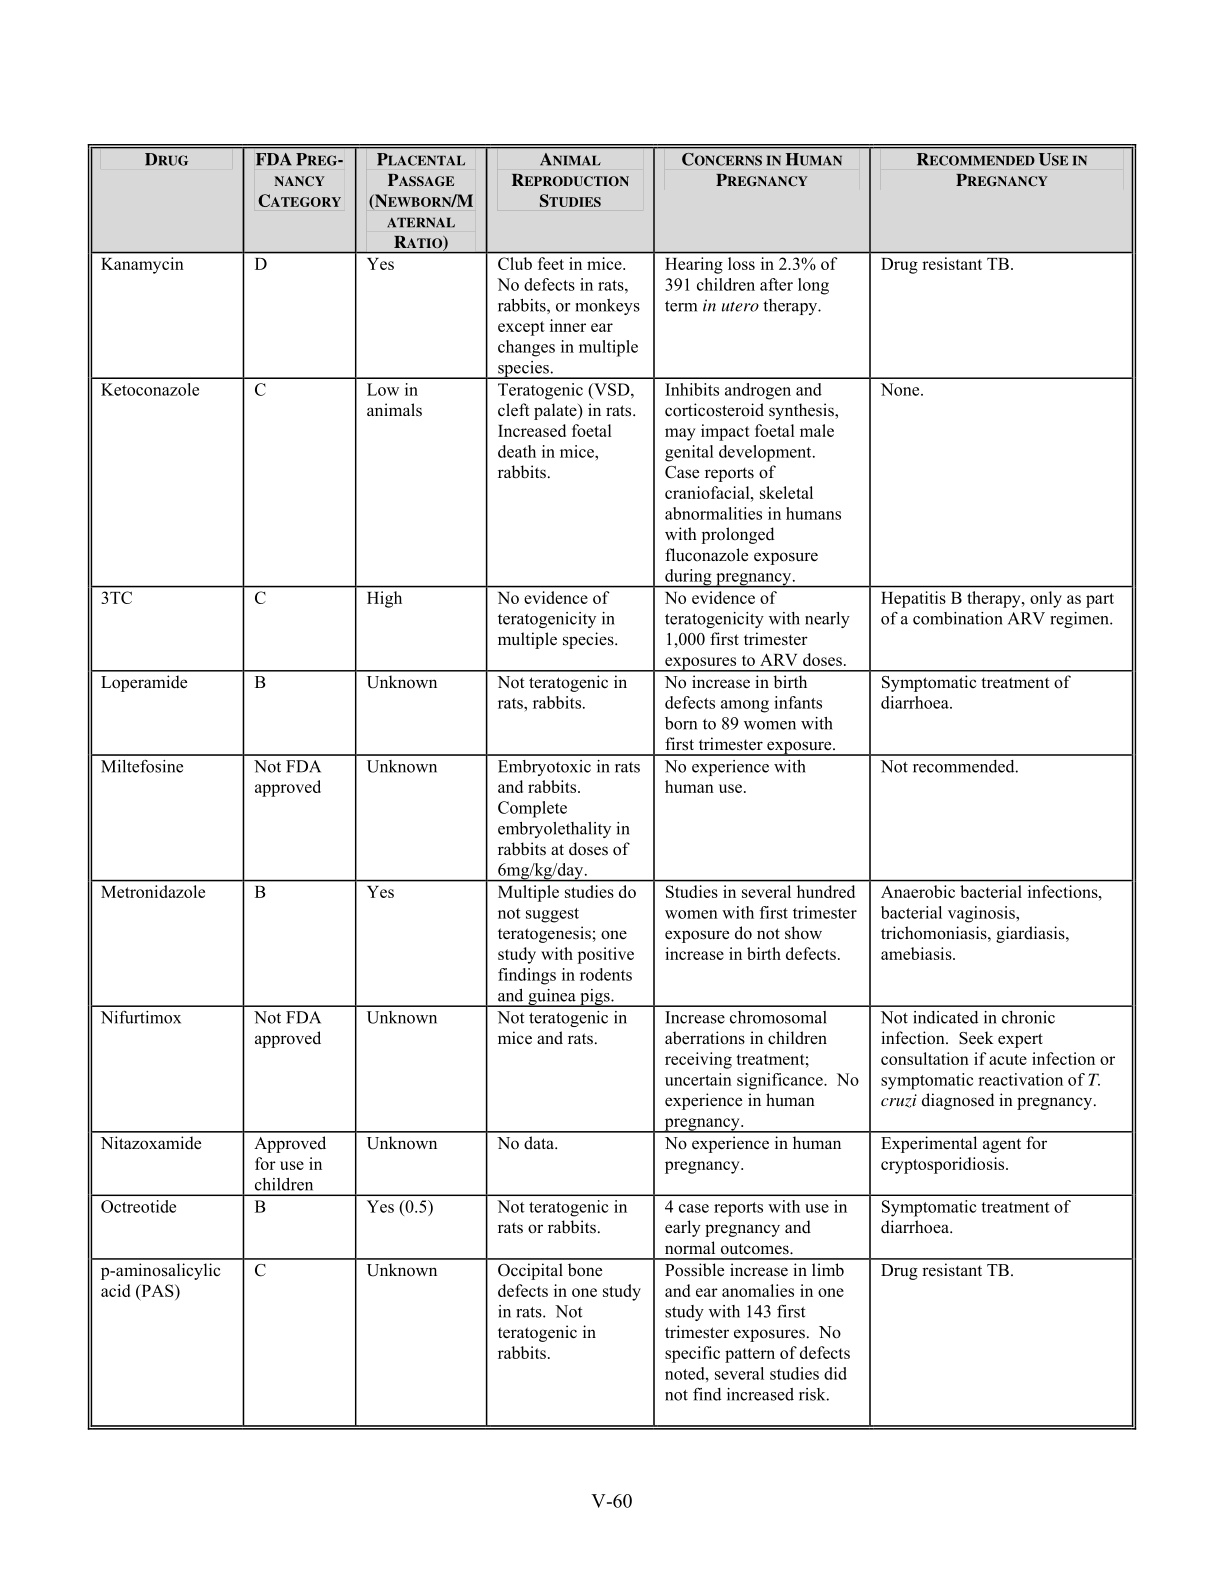full_lined: (86, 144, 1137, 1430)
